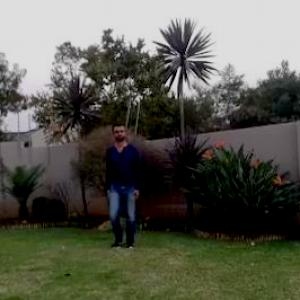follow: (105, 118, 144, 252)
